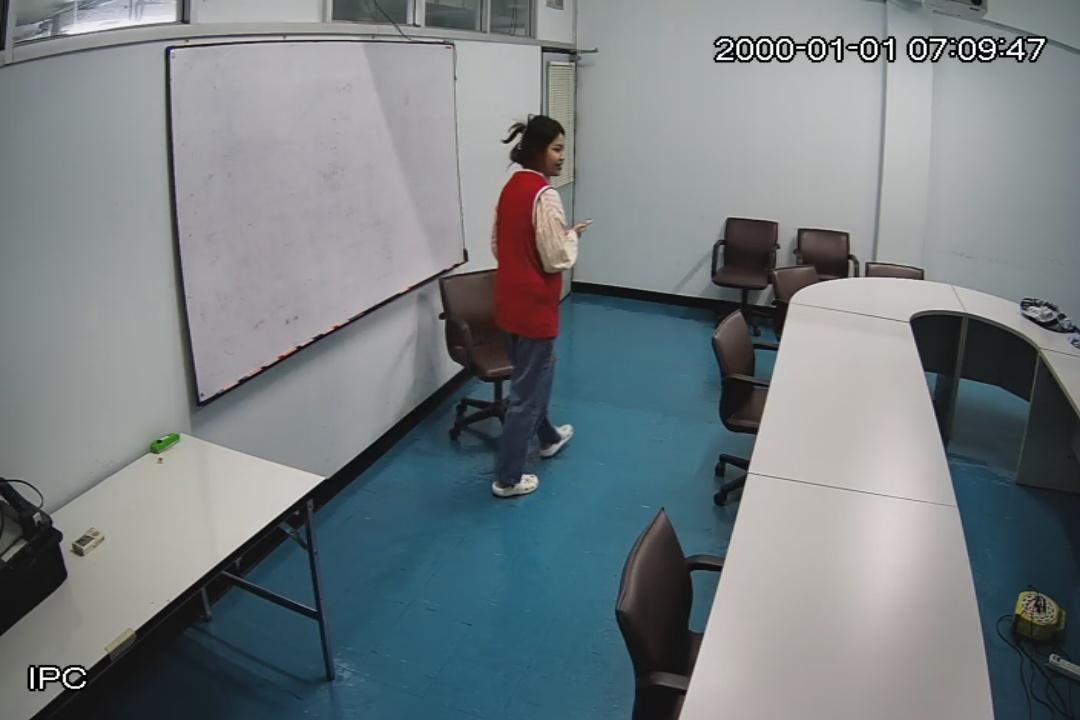normal: (478, 110, 598, 504)
